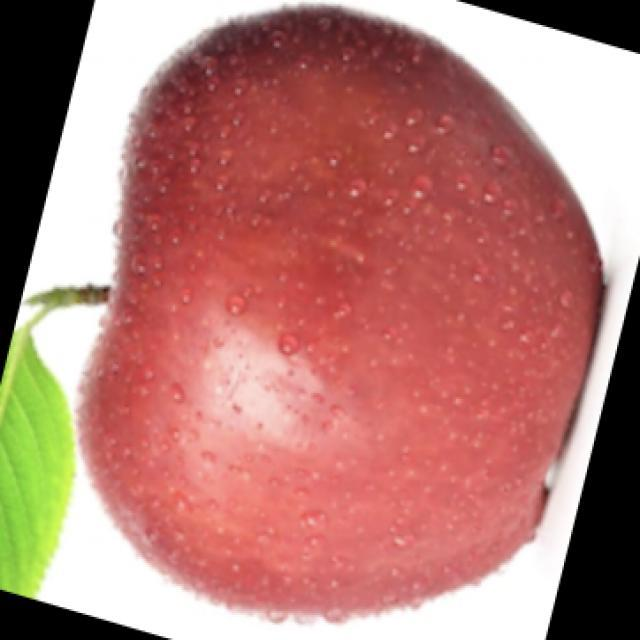Fresh Apple: (90, 19, 600, 624)
